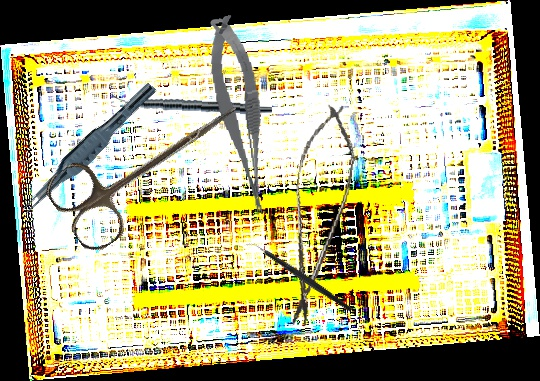Chopper: (243, 215, 354, 340)
Handpiece: (111, 92, 273, 117)
Iris Scissors: (40, 68, 259, 258)
Micro Scissor: (274, 99, 363, 332), (204, 13, 273, 218)
Tissue Forceps: (18, 74, 158, 222)
